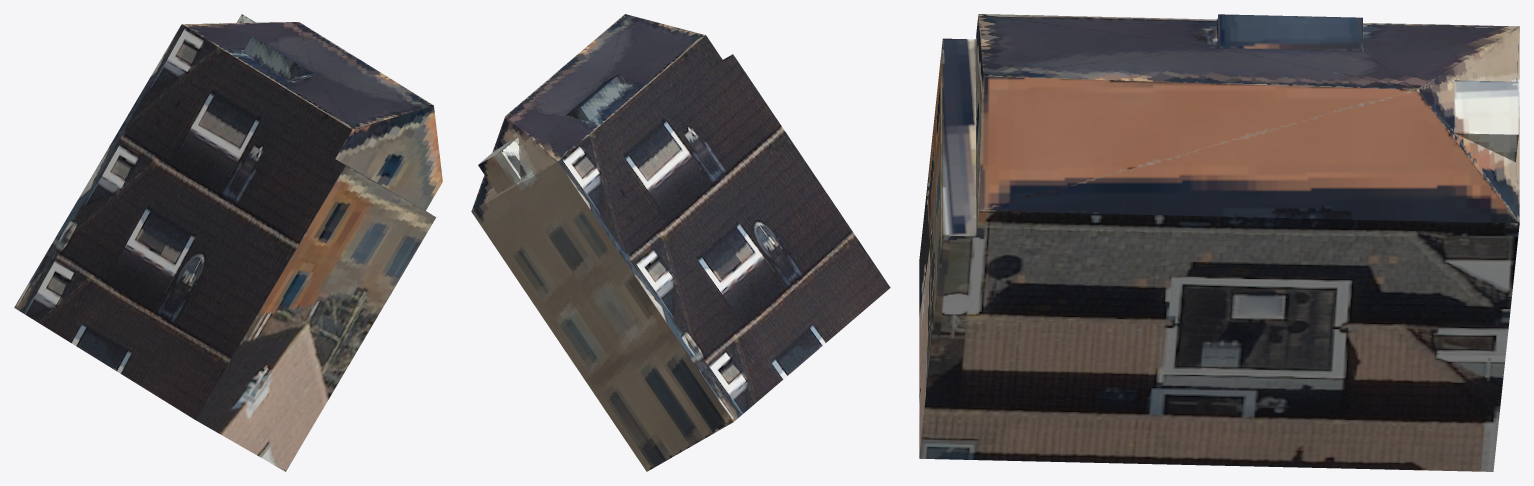
The picture shows the model from 3 angles, left to right: view 1: azimuth 30°, elevation 25°; view 2: azimuth 150°, elevation 25°; view 3: azimuth 270°, elevation 25°; orthographic projection. The views are drawn at different scales.
Visible parts, largest first — view 1: BAG_0599100000688699 (×6); view 2: BAG_0599100000688699 (×6); view 3: BAG_0599100000688699 (×6).
Boxes of the visible parts, box(x1,y1,x2,y2) form: BAG_0599100000688699 (×6): box(14, 14, 442, 471); BAG_0599100000688699 (×6): box(471, 14, 890, 471); BAG_0599100000688699 (×6): box(919, 14, 1519, 471).
Bounding box in the file's own units: 10.94 × 12.55 × 12.47.
1 material, 1 textured.
